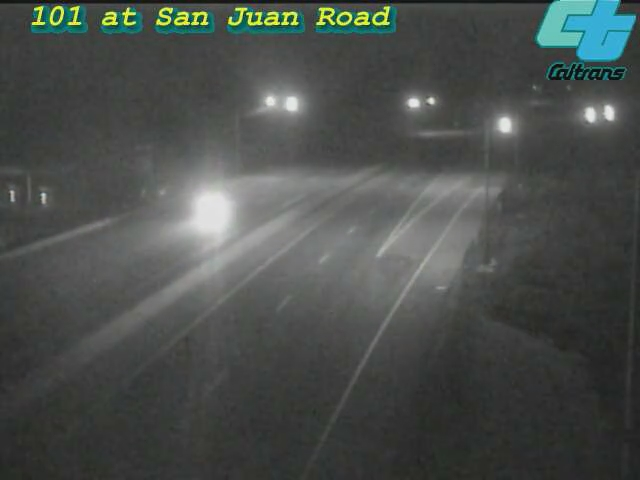vehicle: (171, 169, 251, 249), (481, 101, 531, 151), (564, 91, 614, 141), (583, 88, 633, 138)
